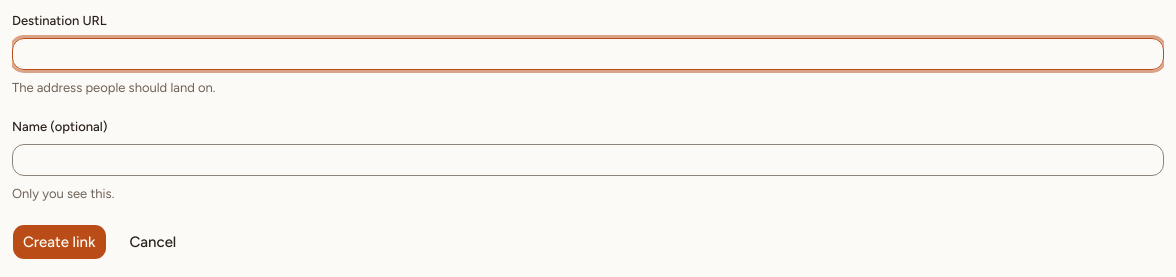
LinkForm › explains invalid_url beside the destination field
Type "https://example.com/a" into the field labelled "Destination URL" at (588, 54), box [12,38,1164,70]
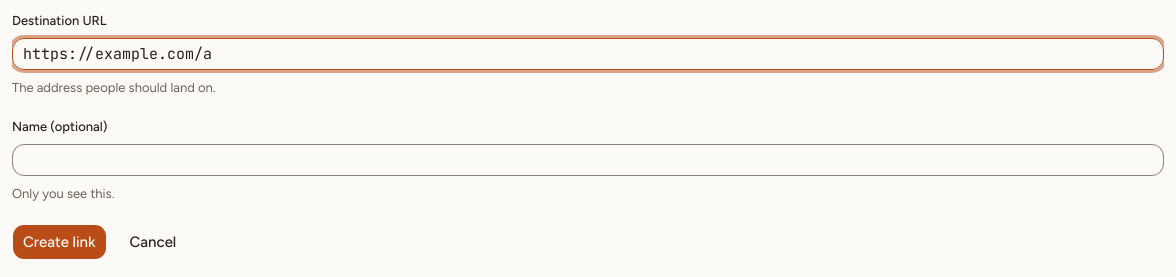
Click the button "Create link" at (59, 242), box [12,224,106,260]
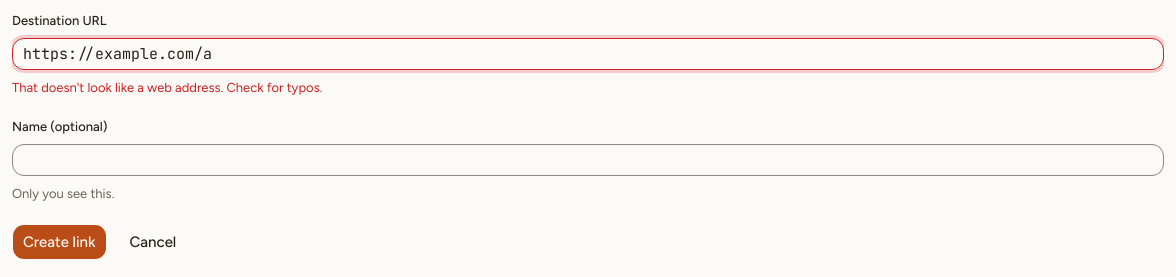
expect the text "That doesn't look like a web address. Check for typos." is shown: met, box [12,80,322,95]
